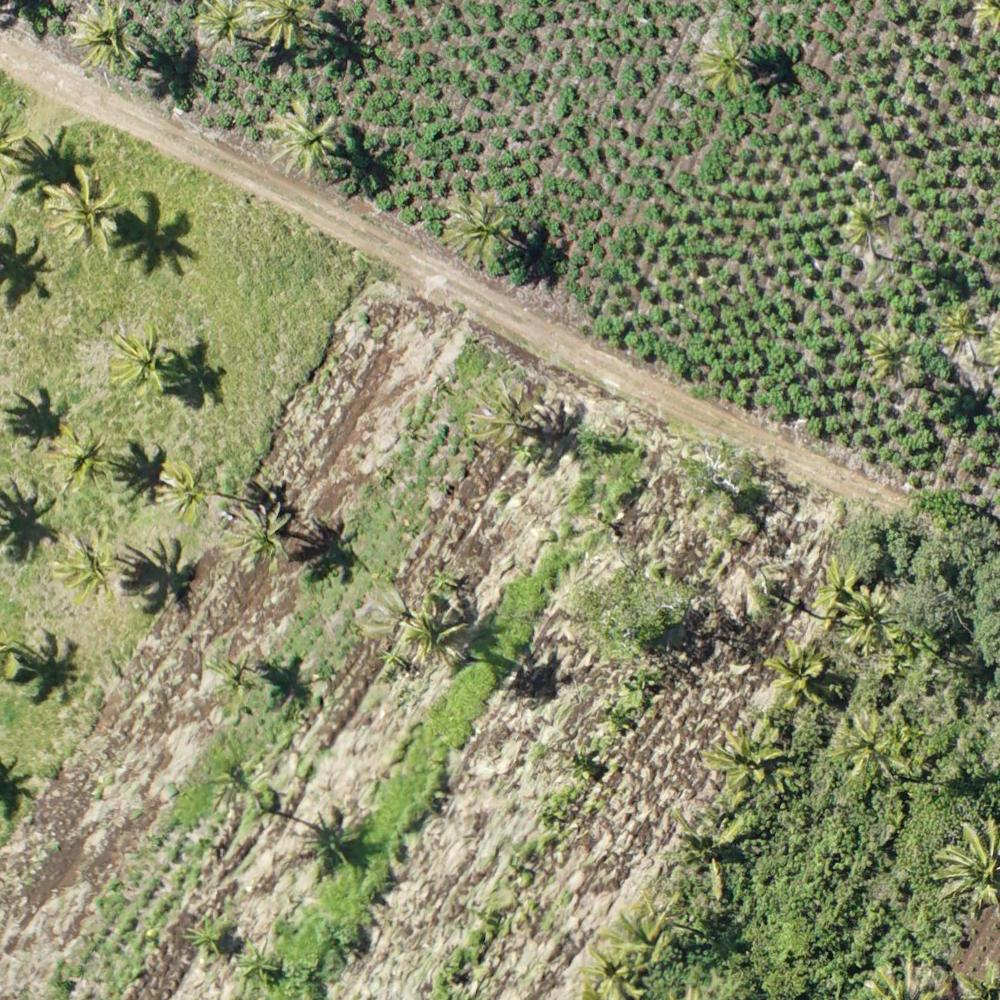Palm: (38, 165, 121, 259), (267, 95, 347, 179), (465, 377, 540, 454), (221, 501, 296, 569), (46, 426, 116, 497), (834, 584, 900, 656), (837, 713, 907, 779), (67, 1, 137, 65), (55, 533, 119, 602), (108, 331, 170, 400), (153, 459, 218, 524), (691, 33, 757, 97), (450, 199, 515, 263), (762, 642, 830, 702), (835, 193, 898, 255), (252, 1, 320, 50), (192, 1, 252, 51), (865, 327, 918, 383), (933, 304, 982, 360)
